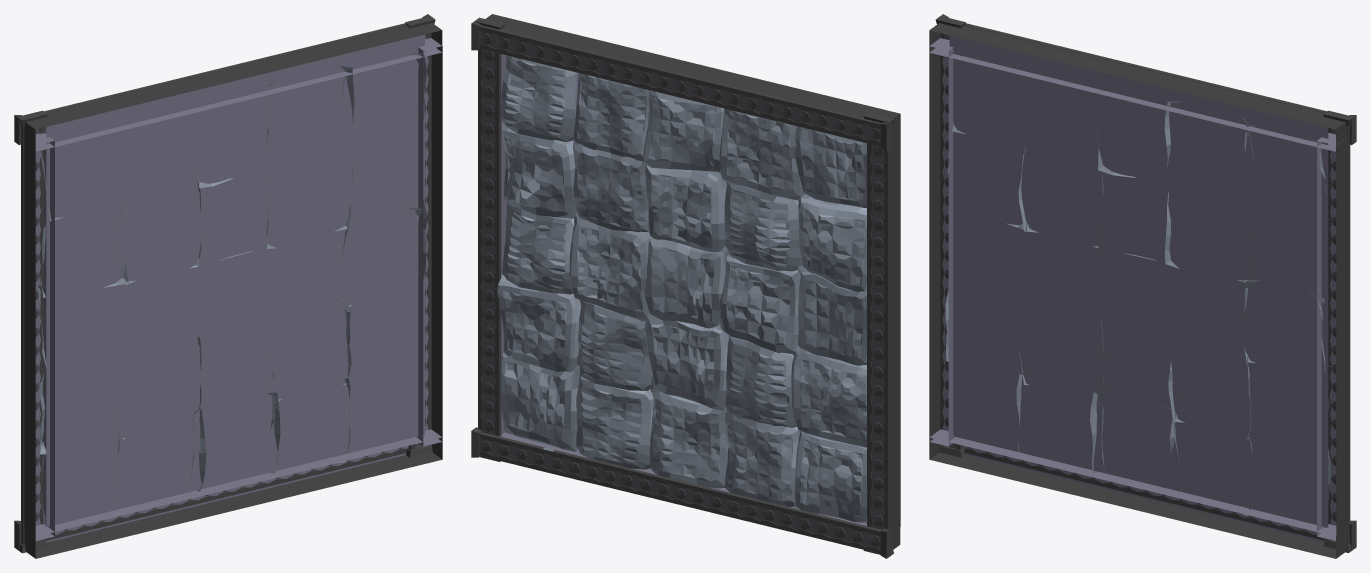
The model's file is AST_wallPanel.fbx.
3 renders of one model, left to right at view 1: azimuth 30°, elevation 25°; view 2: azimuth 150°, elevation 25°; view 3: azimuth 330°, elevation 25°, orthographic.
Parts seen in each view (by area): view 1: MSH_wallPanel; view 2: MSH_wallPanel; view 3: MSH_wallPanel.
Boxes of the visible parts, x1,y1,x2,y2 form: MSH_wallPanel: [14, 14, 442, 558]; MSH_wallPanel: [471, 14, 900, 558]; MSH_wallPanel: [929, 14, 1356, 558].
Size of the model in its own units: 309 by 309 by 23.14.
